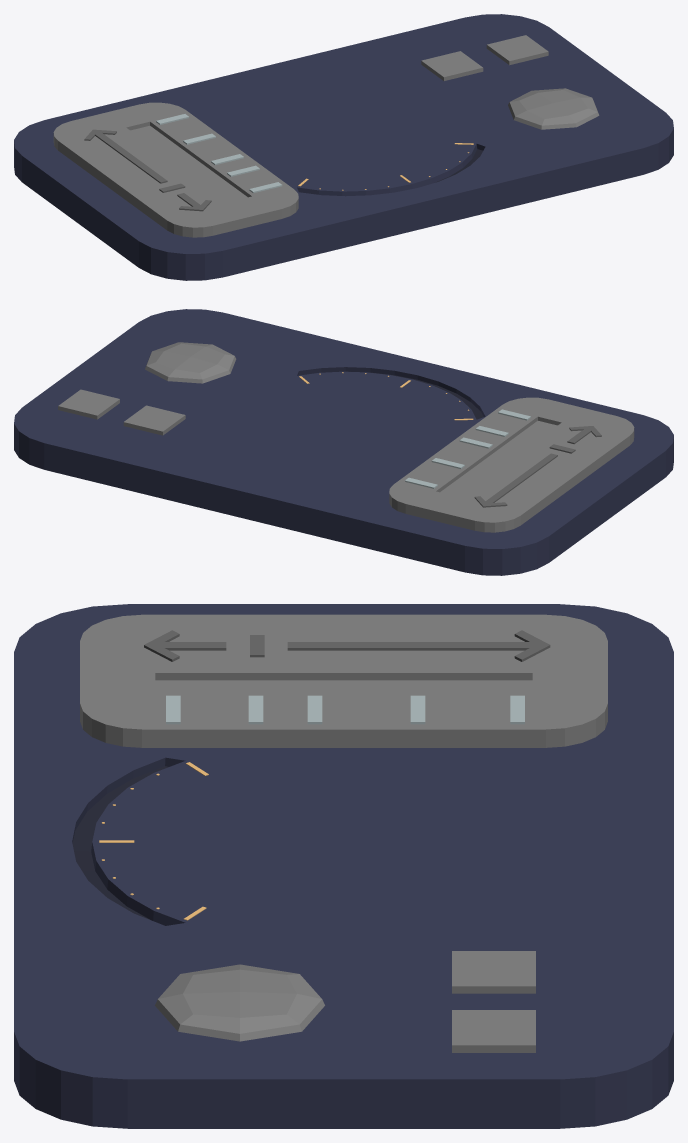
The picture shows the model from 3 angles, top to bottom: view 1: azimuth 30°, elevation 25°; view 2: azimuth 150°, elevation 25°; view 3: azimuth 270°, elevation 25°; orthographic projection. The views are drawn at different scales.
Visible parts, largest first — view 1: Cube; view 2: Cube; view 3: Cube.
Boxes of the visible parts, x1,y1,x2,y2 form: Cube: (14,14,673,280); Cube: (14,309,673,575); Cube: (14,604,673,1128).
Bounding box in the file's own units: 361 × 24.9 × 212.
